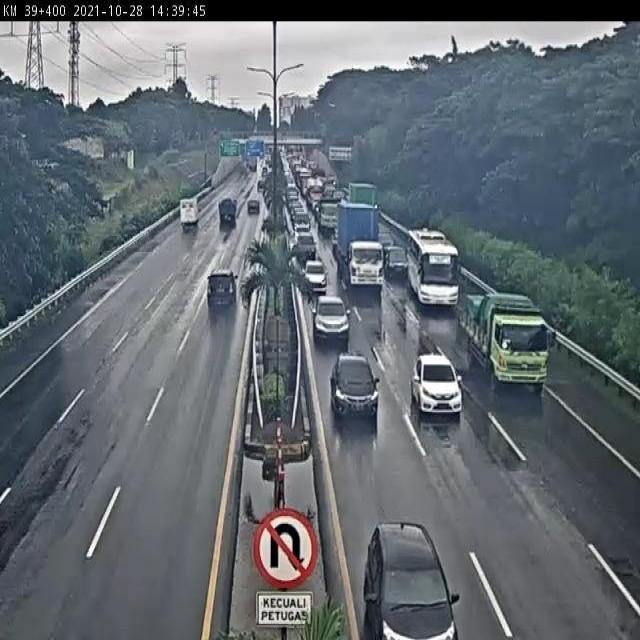big bus: (406, 225, 460, 308)
big truck: (336, 198, 381, 282)
car: (365, 522, 454, 640), (411, 356, 461, 417), (329, 356, 376, 415), (309, 288, 346, 335), (205, 269, 239, 307), (383, 240, 408, 275), (303, 257, 326, 291), (295, 231, 317, 257), (290, 214, 312, 238)
mid truck: (459, 293, 550, 392)
small truck: (178, 193, 201, 235), (214, 198, 239, 230)
